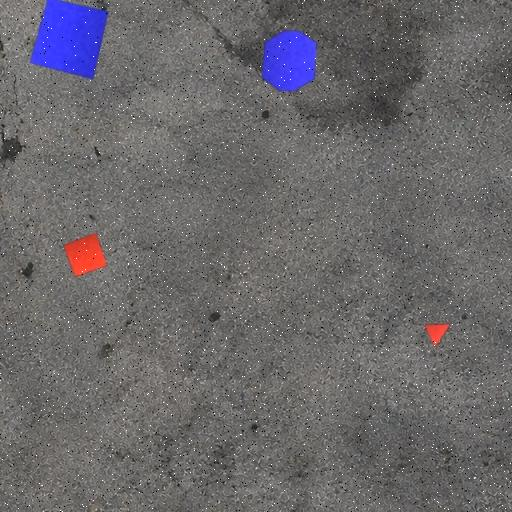BLUE_SQUARE: (30, 0, 108, 80)
RED_SQUARE: (62, 232, 108, 278)
